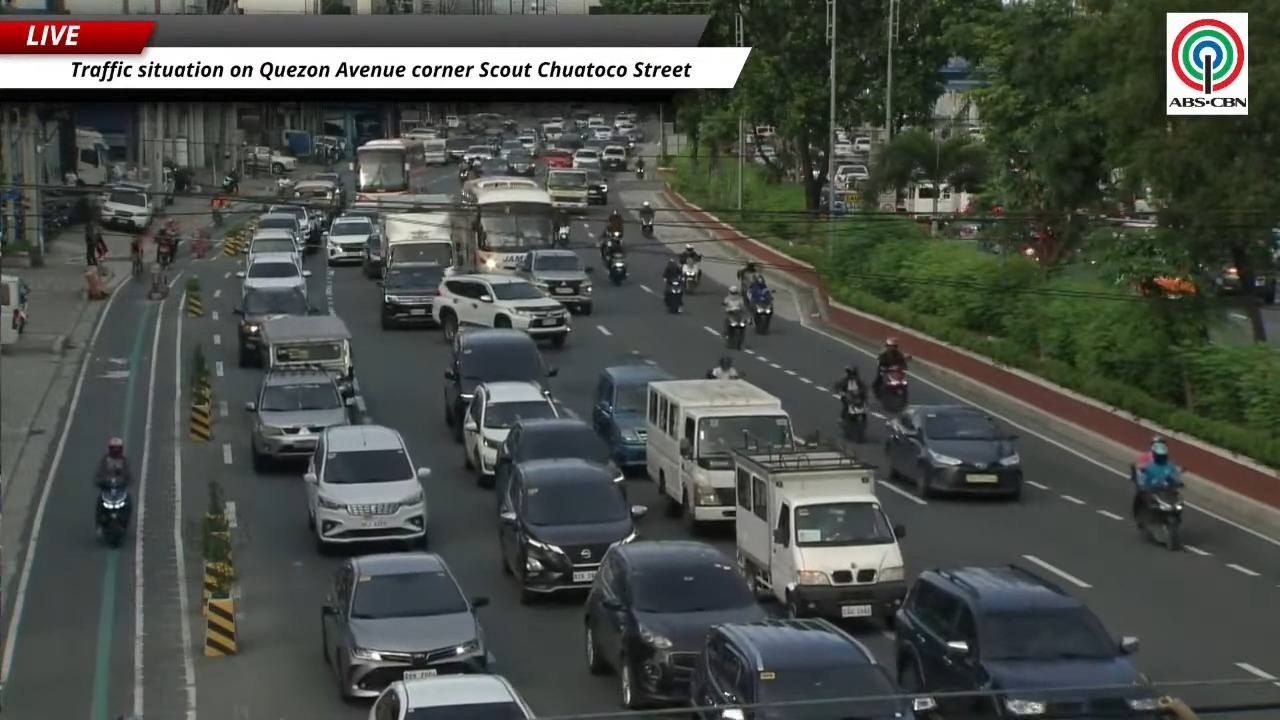bus: (455, 187, 553, 272), (352, 138, 429, 201), (461, 176, 541, 204)
car: (894, 565, 1160, 718), (584, 540, 767, 708), (690, 619, 936, 719), (321, 552, 489, 698), (498, 458, 646, 603), (304, 424, 429, 551), (884, 405, 1022, 499), (444, 329, 557, 441), (493, 411, 624, 497), (246, 369, 350, 471), (463, 381, 558, 486), (433, 275, 570, 346), (592, 362, 674, 470), (370, 674, 534, 719), (234, 288, 311, 366), (517, 249, 593, 314), (380, 262, 445, 328), (236, 253, 310, 295), (324, 216, 376, 266), (100, 186, 153, 230), (267, 204, 320, 248), (255, 212, 310, 251), (246, 229, 300, 262), (361, 235, 383, 278), (833, 164, 869, 187), (446, 134, 475, 161), (506, 150, 536, 176), (586, 171, 608, 205), (605, 131, 634, 155), (472, 157, 508, 176), (601, 144, 627, 170), (462, 144, 493, 165), (573, 147, 601, 169), (541, 149, 572, 168), (555, 133, 584, 151), (621, 127, 644, 148), (518, 133, 539, 155), (500, 140, 524, 159), (851, 136, 872, 153), (585, 138, 609, 152), (615, 110, 637, 123), (586, 114, 605, 127), (592, 127, 612, 139), (445, 115, 461, 129)
motorcycle: (1135, 487, 1184, 551), (97, 479, 130, 547), (876, 367, 908, 413), (841, 393, 867, 443), (751, 290, 773, 334), (724, 310, 746, 349), (663, 277, 684, 313), (599, 230, 621, 262), (607, 253, 627, 285), (681, 260, 701, 292), (156, 237, 175, 268), (706, 367, 744, 378), (276, 177, 295, 196), (221, 174, 238, 194), (556, 224, 569, 247), (458, 163, 472, 183), (641, 218, 653, 238), (211, 207, 223, 226), (635, 167, 644, 179)
truck: (734, 443, 906, 620), (645, 379, 793, 528), (382, 212, 456, 270), (74, 127, 111, 186), (546, 169, 589, 212), (241, 146, 297, 174)
